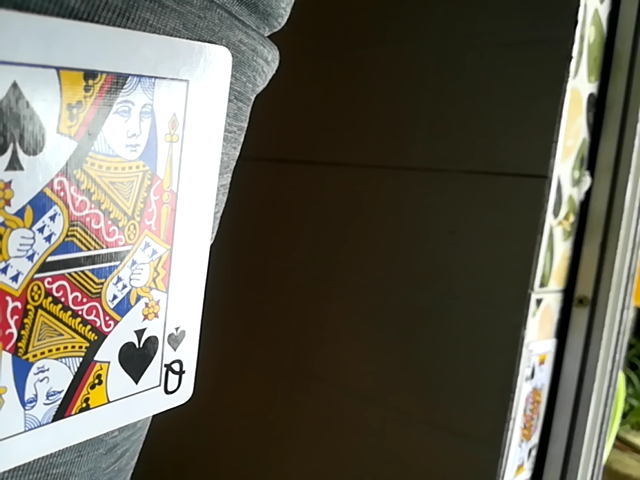ht q: (0, 4, 228, 479)
